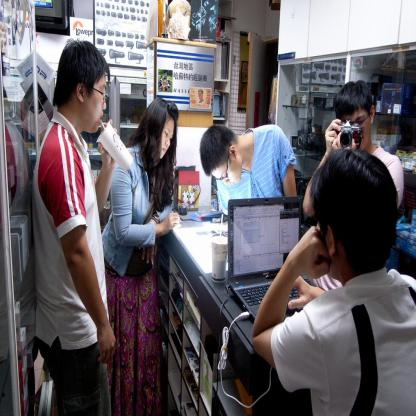board: (226, 195, 312, 318), (97, 122, 133, 174), (212, 235, 226, 283)
